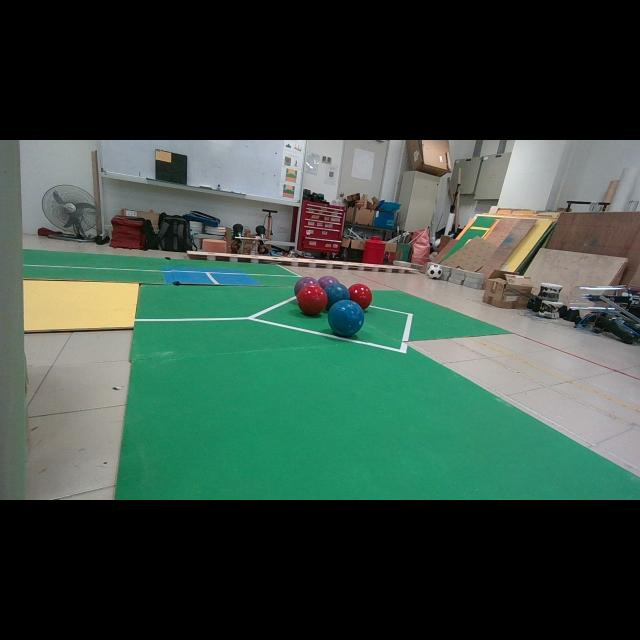B: (328, 300, 364, 336), (325, 284, 350, 311)
P: (294, 276, 318, 296), (318, 276, 339, 289)
R: (296, 285, 328, 316), (349, 284, 372, 310)
